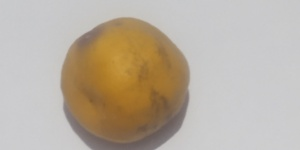BAD: (64, 17, 189, 140)
